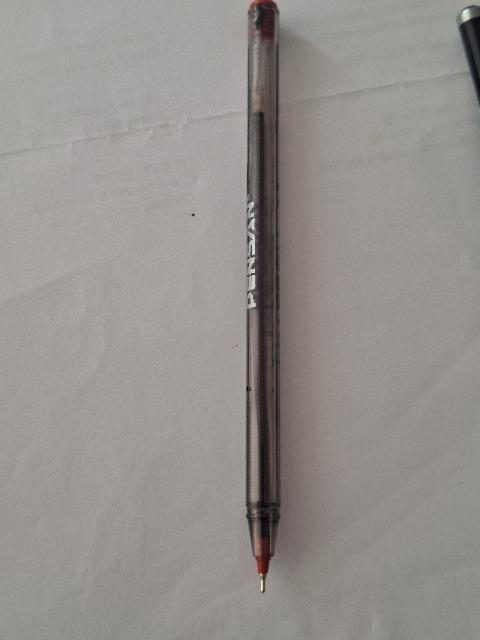writing_tool: (240, 4, 286, 590)
